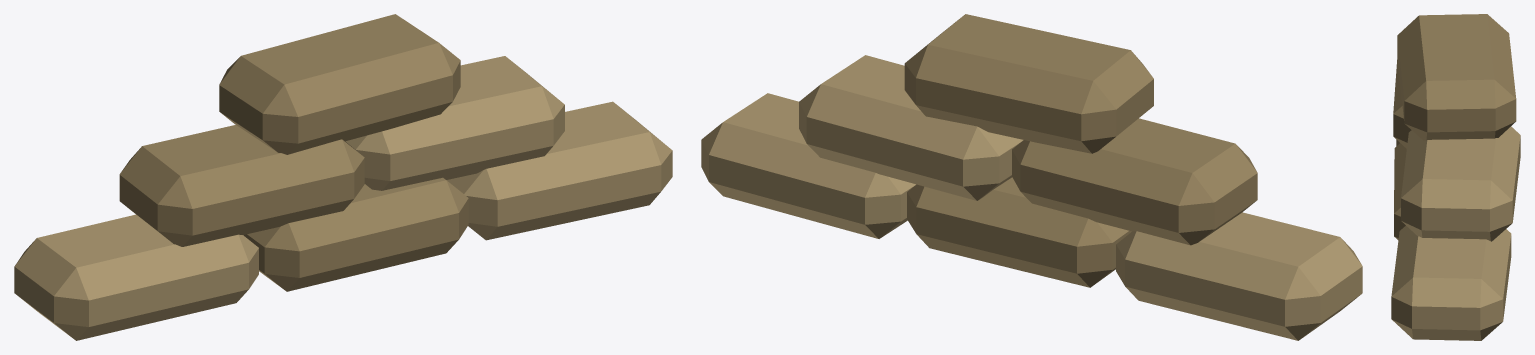
Rendered from sandbags.glb.
3 renders of one model, left to right at view 1: azimuth 30°, elevation 25°; view 2: azimuth 150°, elevation 25°; view 3: azimuth 270°, elevation 25°, orthographic. The views are drawn at different scales.
Visible parts, largest first — view 1: sandbags; view 2: sandbags; view 3: sandbags.
Boxes of the visible parts, x1,y1,x2,y2 form: sandbags: (14,14,672,340); sandbags: (701,14,1362,340); sandbags: (1391,14,1520,340).
Bounding box in the file's own units: 1.94 × 0.62 × 0.4155.
